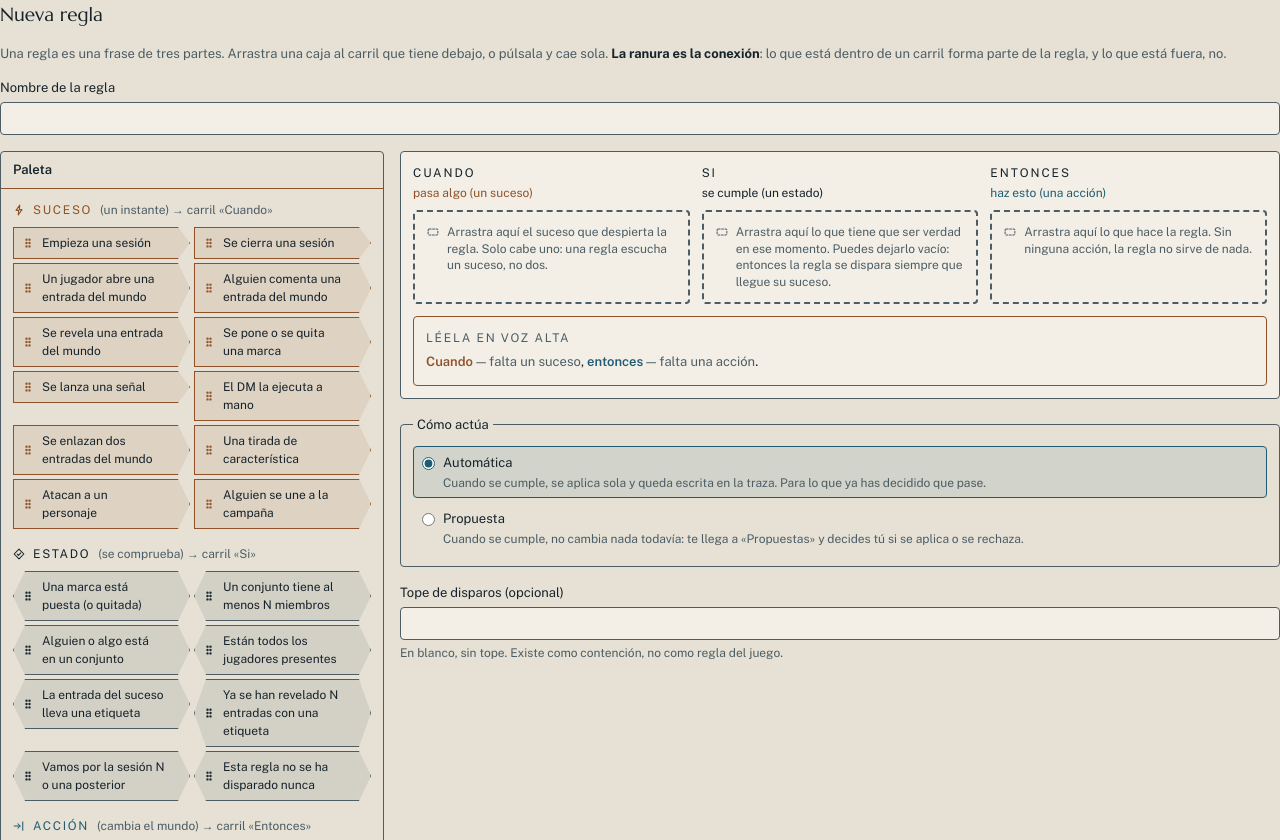
Test: F5 — los avisos ofrecen el arreglo › dos reglas con el mismo suceso se avisan diciendo en qué orden se aplican
Click the button with aria-label "Empieza una sesión — poner en el carril Cuando". click: {"x": 102, "y": 243}
box: [13,227,190,259]
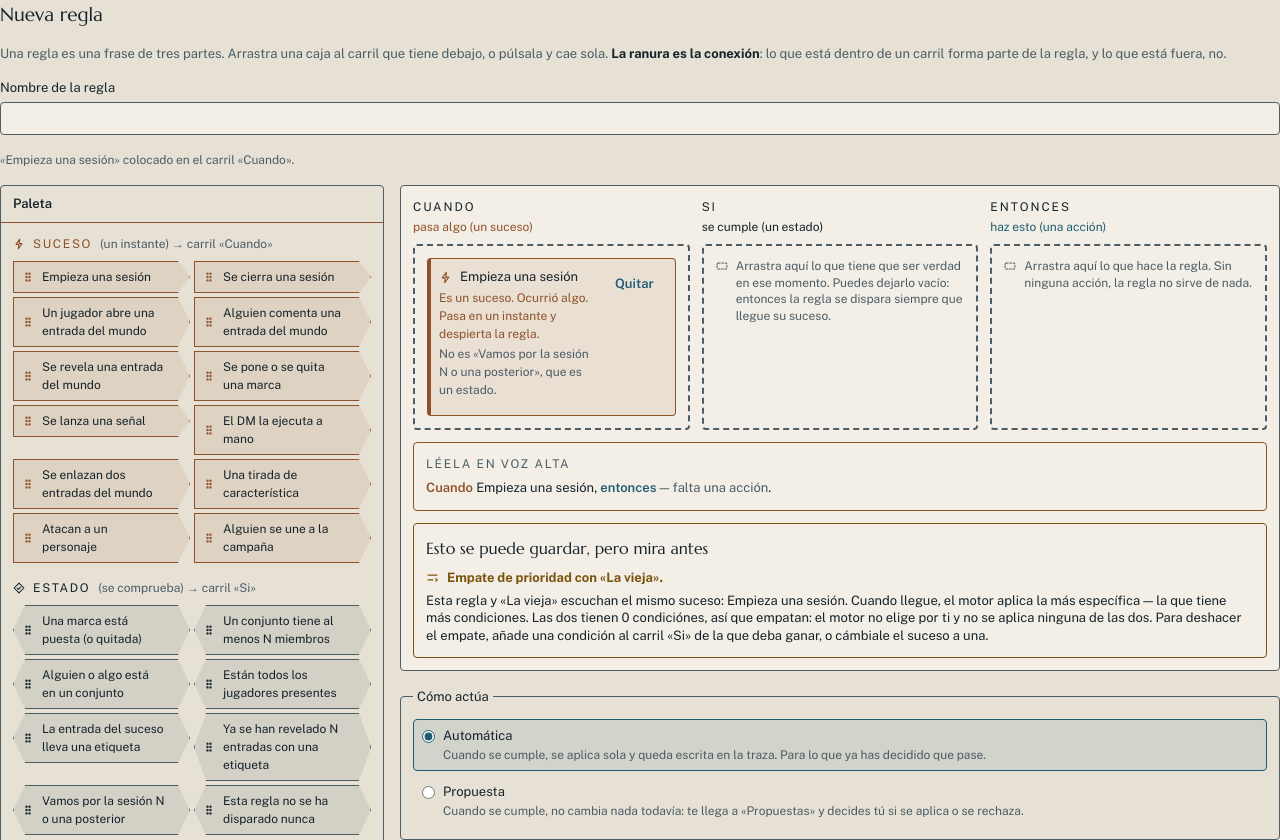
Click the button with aria-label "Esta regla no se ha disparado nunca — poner en el carril Si". click: {"x": 282, "y": 810}
box: [194,785,371,835]
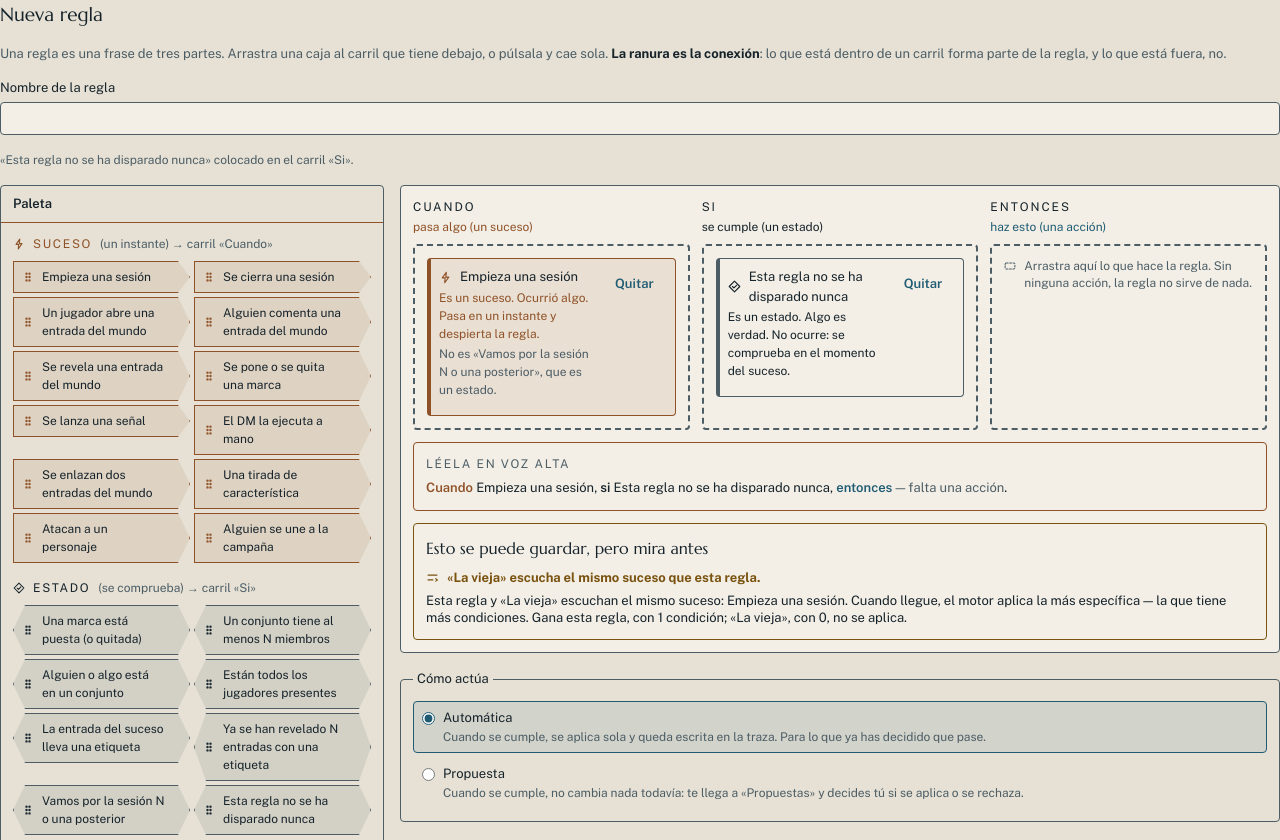
Check: the element named "Avisos sobre esta regla" shows "Gana esta regla, con 1 condición", box [426,592,1226,625]
Check: the element named "Avisos sobre esta regla" shows "«La vieja», con 0, no se aplica", box [426,592,1226,625]
